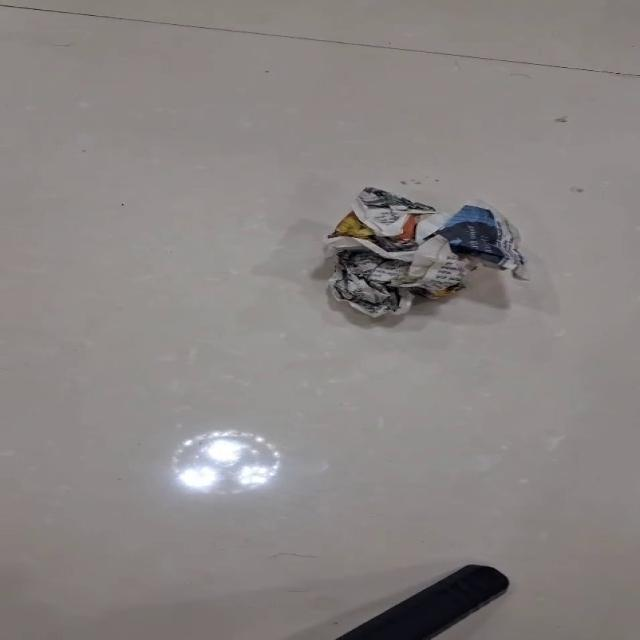paper: (322, 186, 528, 318)
